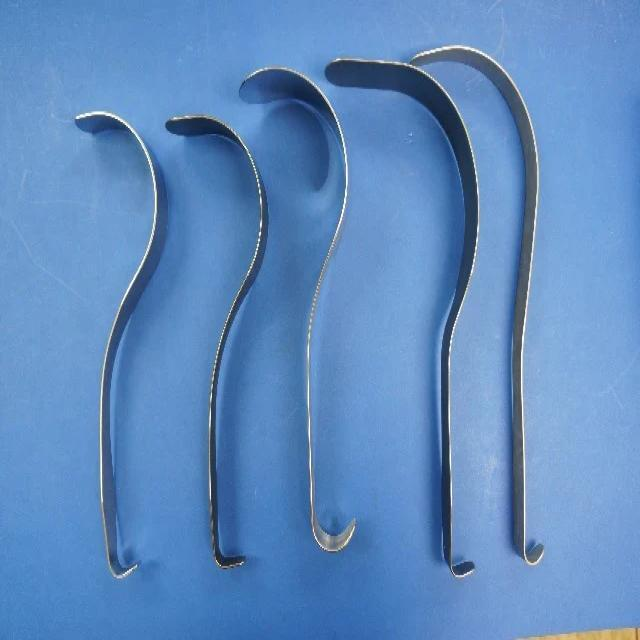Deaver Retractor: (324, 54, 478, 586), (411, 42, 548, 570), (234, 58, 360, 562), (161, 116, 284, 570), (66, 103, 166, 590)
